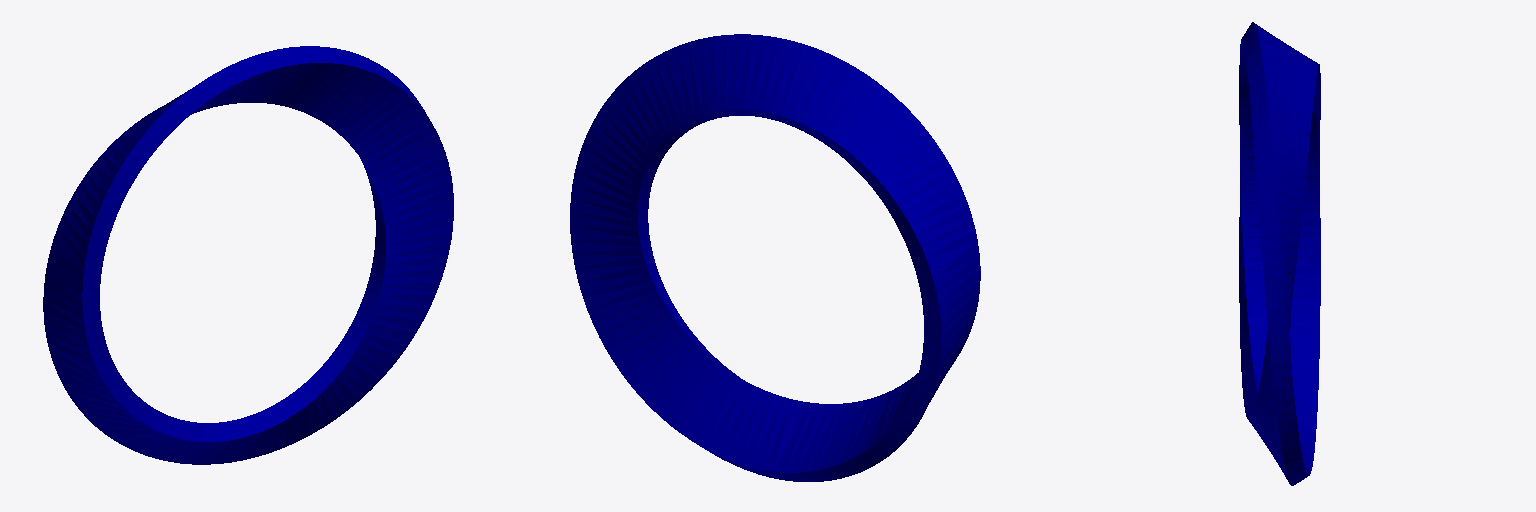
The model's file is mobius_I.obj.
3 renders of one model, left to right at view 1: azimuth 30°, elevation 25°; view 2: azimuth 150°, elevation 25°; view 3: azimuth 270°, elevation 25°, orthographic.
Visible parts, largest first — view 1: OpenSCAD_Model; view 2: OpenSCAD_Model; view 3: OpenSCAD_Model.
Part boxes in pixels (x1,y1,x2,y2): OpenSCAD_Model: (43,46,453,464); OpenSCAD_Model: (570,34,980,481); OpenSCAD_Model: (1239,22,1320,485).
Bounding box in the file's own units: 113 × 118 × 20.61.